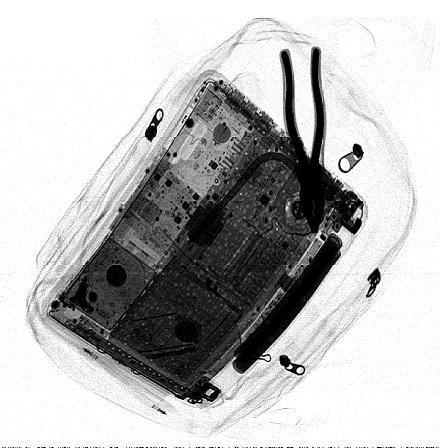Pliers: (280, 45, 327, 237)
